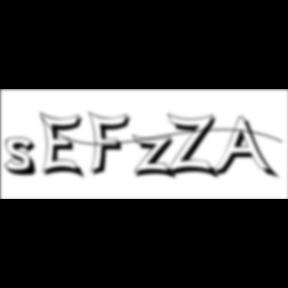A: (212, 116, 280, 182)
E: (39, 110, 88, 182)
F: (88, 110, 136, 178)
Z: (166, 112, 222, 181)
s: (4, 137, 44, 179)
z: (132, 134, 181, 182)
